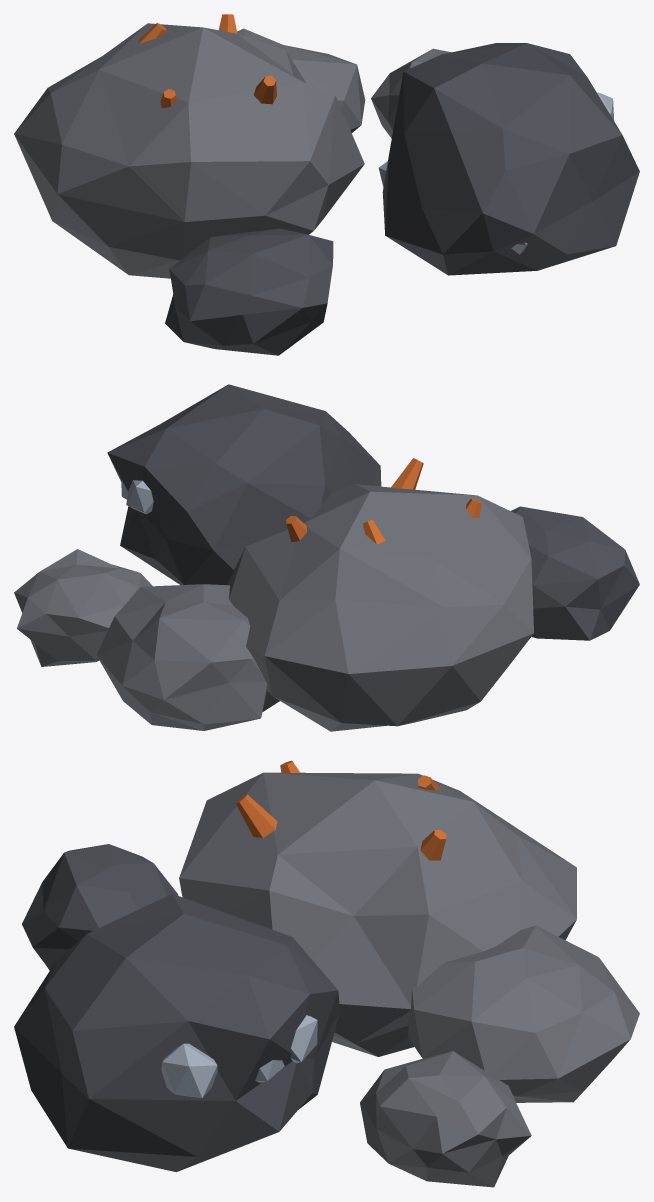
The model's file is RockCluster.obj.
3 views of the same model, one above another, from view 1: azimuth 30°, elevation 25°; view 2: azimuth 150°, elevation 25°; view 3: azimuth 270°, elevation 25° (orthographic). The views are drawn at different scales.
Parts seen in each view (by area): view 1: RockCluster; view 2: RockCluster; view 3: RockCluster.
Part boxes in pixels (x1=…): RockCluster: x1=14, y1=14, x2=639, y2=355; RockCluster: x1=14, y1=384, x2=639, y2=731; RockCluster: x1=14, y1=760, x2=639, y2=1187.
Bounding box in the file's own units: 6.1 × 2.66 × 5.9.
